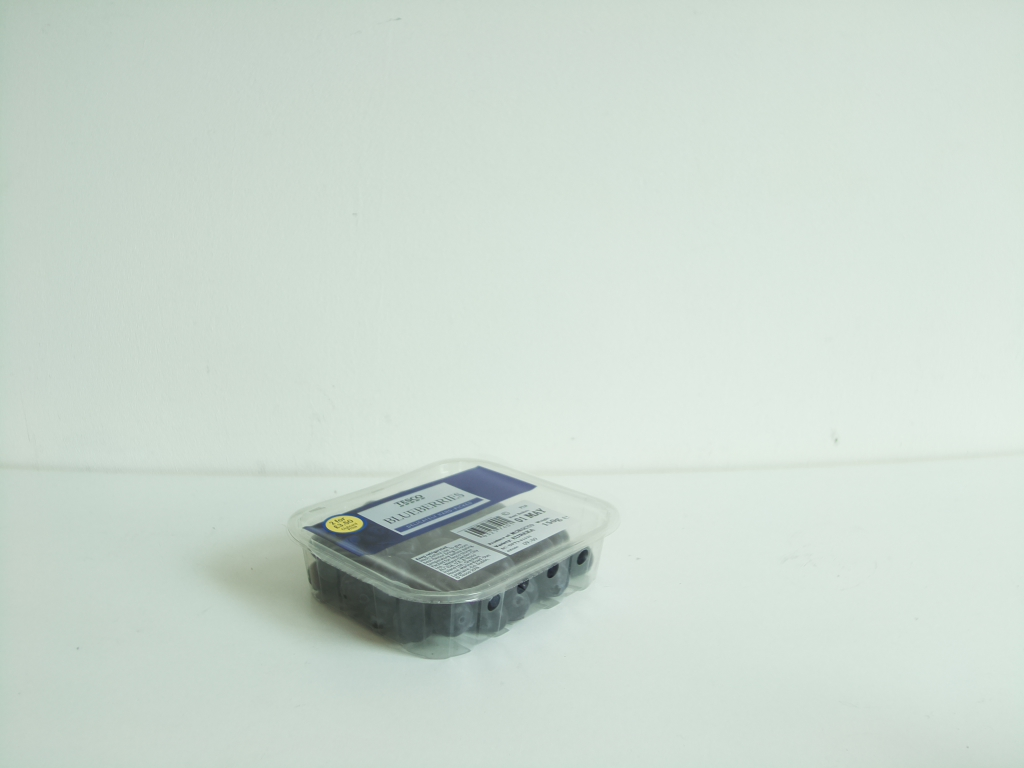soft-fruit: (284, 452, 612, 661)
